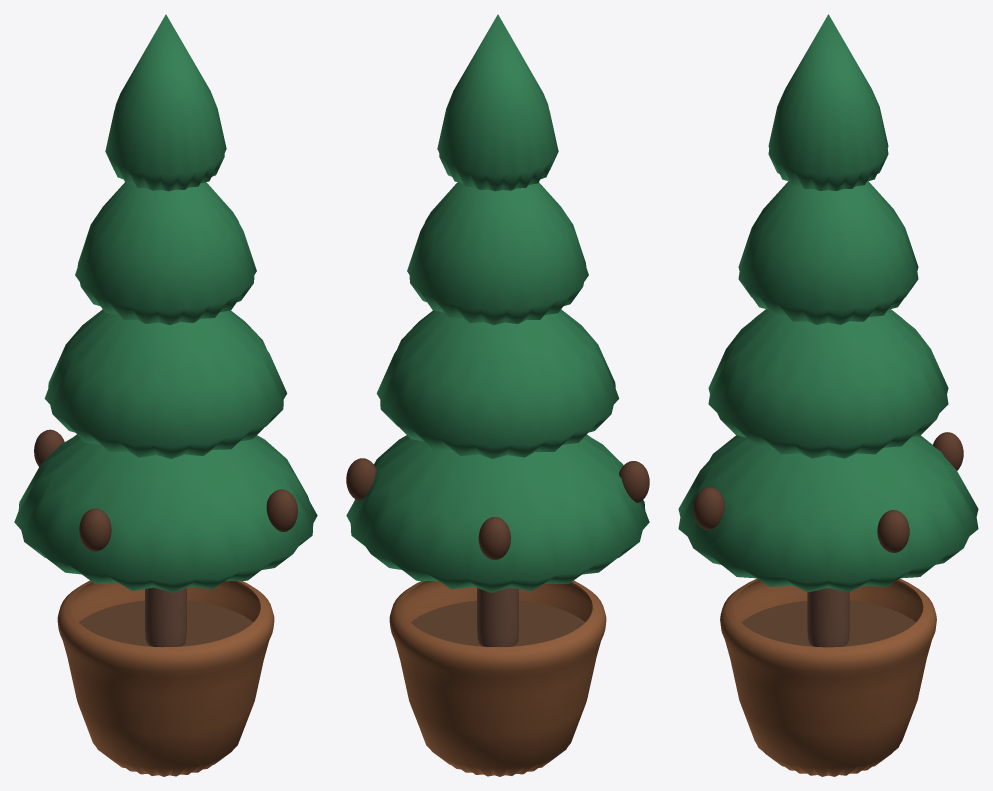
Rendered from deco_pino.glb.
3 views of the same model, side by side, from view 1: azimuth 30°, elevation 25°; view 2: azimuth 150°, elevation 25°; view 3: azimuth 270°, elevation 25° (orthographic).
Parts seen in each view (by area): view 1: copa pino 0.001, copa pino 1.001, matera.004, copa pino 2.001, copa pino 3.001, tierra.004, tronco pino.001, piña pino 2.001, piña pino 3.001, piña pino 1.001; view 2: copa pino 0.001, copa pino 1.001, matera.004, copa pino 2.001, copa pino 3.001, tierra.004, tronco pino.001, piña pino 1.001, piña pino 0.001, piña pino 2.001; view 3: copa pino 0.001, copa pino 1.001, matera.004, copa pino 2.001, copa pino 3.001, tierra.004, tronco pino.001, piña pino 0.001, piña pino 3.001, piña pino 1.001.
Boxes of the visible parts, x1,y1,x2,y2 form: copa pino 0.001: (14, 434, 317, 592); copa pino 1.001: (44, 309, 287, 458); matera.004: (57, 580, 274, 776); copa pino 2.001: (75, 182, 256, 324); copa pino 3.001: (105, 14, 226, 191); tierra.004: (78, 600, 252, 646); tronco pino.001: (145, 587, 186, 647); piña pino 2.001: (79, 508, 111, 551); piña pino 3.001: (266, 489, 297, 531); piña pino 1.001: (34, 429, 64, 466); copa pino 0.001: (346, 434, 649, 592); copa pino 1.001: (376, 309, 619, 458); matera.004: (389, 580, 606, 776); copa pino 2.001: (407, 182, 588, 324); copa pino 3.001: (437, 14, 558, 191); tierra.004: (411, 600, 585, 646); tronco pino.001: (477, 587, 518, 647); piña pino 1.001: (478, 517, 510, 559); piña pino 0.001: (346, 458, 376, 500); piña pino 2.001: (619, 461, 649, 502); copa pino 0.001: (678, 435, 978, 592); copa pino 1.001: (708, 309, 948, 458); matera.004: (720, 578, 936, 776); copa pino 2.001: (738, 181, 918, 324); copa pino 3.001: (768, 14, 888, 190); tierra.004: (741, 600, 915, 646); tronco pino.001: (807, 588, 849, 647); piña pino 0.001: (877, 510, 909, 552); piña pino 3.001: (693, 487, 724, 529); piña pino 1.001: (933, 432, 963, 470).
Bounding box in the file's own units: 0.4426 × 1.21 × 0.4426.
